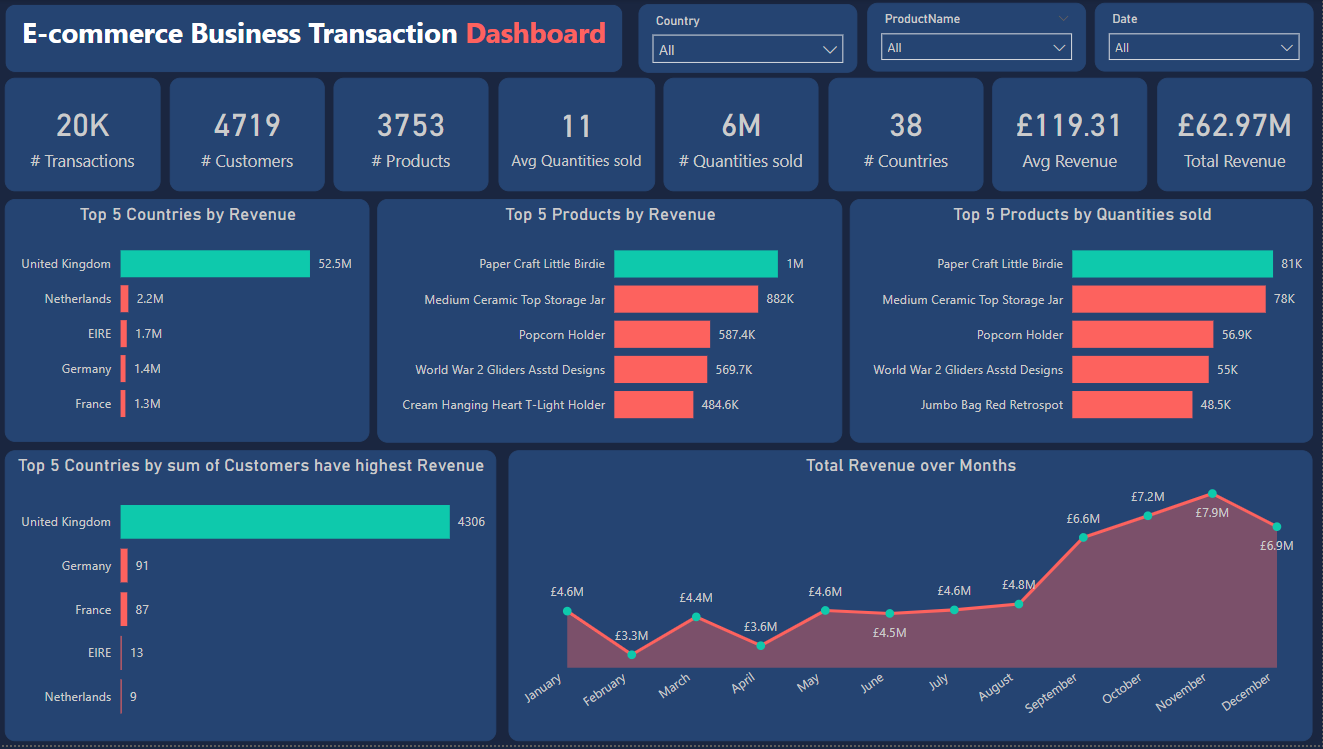

The dashboard page shown, as its layout file describes it:
{"tool":"powerbi","page":{"name":"Page 1","canvas":[1280,720],"ordinal":0},"visuals":[{"type":"textbox","box":[8.4,4.8,597.2,66.4],"z":0},{"type":"card","fields":{"Values":["Sales_transaction_data.# Transactions"]},"box":[8.4,76,150,109.8],"z":1},{"type":"card","fields":{"Values":["Sales_transaction_data.# Customers"]},"box":[167.5,76,149.6,109.8],"z":2},{"type":"card","fields":{"Values":["Sales_transaction_data.# Products"]},"box":[326.2,76,149.6,109.8],"z":3},{"type":"card","fields":{"Values":["Sales_transaction_data.# Quantities"]},"box":[644.8,76,149.6,109.8],"z":4},{"type":"card","fields":{"Values":["Sales_transaction_data.# Countries"]},"box":[803.4,76,149.6,109.8],"z":5},{"type":"card","fields":{"Values":["Sales_transaction_data.Avg Revenue"]},"box":[962.1,76,149.6,109.8],"z":6},{"type":"card","fields":{"Values":["Sales_transaction_data.Total Revenue"]},"box":[1120.8,76,149.6,109.8],"z":7},{"type":"barChart","title":"Top 5 Countries by Revenue","fields":{"Category":["Sales_transaction_data.Country"],"Y":["Sales_transaction_data.Total Revenue"]},"box":[8.4,193,352.3,234],"z":8},{"type":"barChart","title":"Top 5 Products by Revenue","fields":{"Category":["Sales_transaction_data.ProductName"],"Y":["Sales_transaction_data.Total Revenue"]},"box":[368,193,448.8,235.3],"z":9},{"type":"barChart","title":"Top 5 Products by Quantities sold","fields":{"Category":["Sales_transaction_data.ProductName"],"Y":["Sales_transaction_data.# Quantities"]},"box":[824,193,447.6,235.3],"z":10},{"type":"lineChart","title":"Total Revenue over Months","fields":{"Y":["Sales_transaction_data.Total Revenue"],"Category":["Sales_transaction_data.Month"]},"box":[494.6,435.5,775.7,281.1],"z":12},{"type":"barChart","title":"Top 5 Countries by sum of Customers have highest Revenue","fields":{"Category":["Sales_transaction_data.Country"],"Y":["Sales_transaction_data.# Customers"]},"box":[8.4,435.5,474.1,281.1],"z":13},{"type":"slicer","fields":{"Values":["Sales_transaction_data.Country"]},"box":[620.1,4.8,211.1,66.4],"z":14},{"type":"slicer","fields":{"Values":["Sales_transaction_data.ProductName"]},"box":[840.3,3.6,211.1,66.4],"z":15},{"type":"slicer","fields":{"Values":["Sales_transaction_data.Date.Variation.Date Hierarchy.Quarter","Sales_transaction_data.Date.Variation.Date Hierarchy.Month"]},"box":[1060.5,3.6,211.1,66.4],"z":16},{"type":"card","fields":{"Values":["Sales_transaction_data.Avg ProductByTrans"]},"box":[484.9,76,150.8,109.8],"z":17}]}

Visuals, with their boxes in screenshot pixels (x1, y1, x2, y2), scaled from the page's 1280x720 canvas onto the 1323x749 screenshot:
textbox: 9,5,626,74
card - Sales_transaction_data.# Transactions: 9,79,164,193
card - Sales_transaction_data.# Customers: 173,79,328,193
card - Sales_transaction_data.# Products: 337,79,492,193
card - Sales_transaction_data.# Quantities: 666,79,821,193
card - Sales_transaction_data.# Countries: 830,79,985,193
card - Sales_transaction_data.Avg Revenue: 994,79,1149,193
card - Sales_transaction_data.Total Revenue: 1158,79,1313,193
"Top 5 Countries by Revenue" barChart: 9,201,373,444
"Top 5 Products by Revenue" barChart: 380,201,844,446
"Top 5 Products by Quantities sold" barChart: 852,201,1314,446
"Total Revenue over Months" lineChart: 511,453,1313,745
"Top 5 Countries by sum of Customers have highest Revenue" barChart: 9,453,499,745
slicer - Sales_transaction_data.Country: 641,5,859,74
slicer - Sales_transaction_data.ProductName: 869,4,1087,73
slicer - Sales_transaction_data.Date.Variation.Date Hierarchy.Quarter x Sales_transaction_data.Date.Variation.Date Hierarchy.Month: 1096,4,1314,73
card - Sales_transaction_data.Avg ProductByTrans: 501,79,657,193
